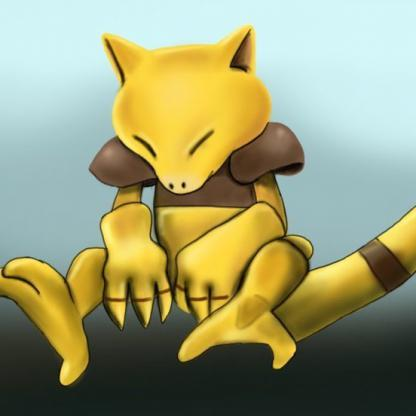Abra: (5, 32, 416, 389)
